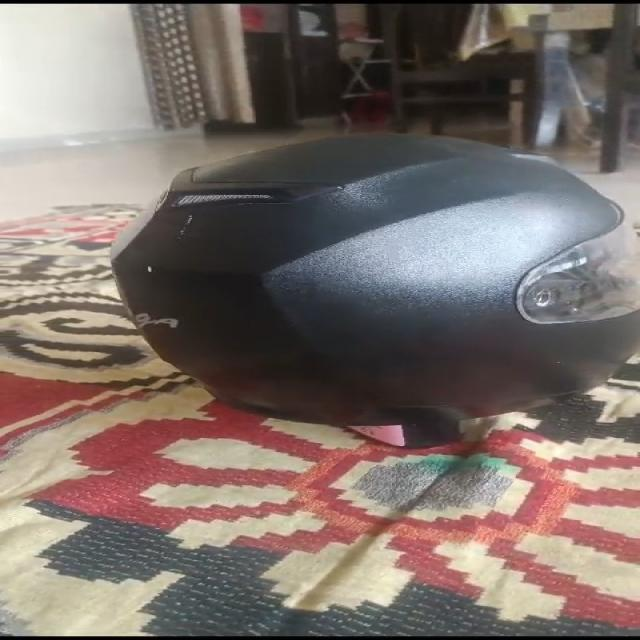Helmet: (112, 135, 639, 447)
